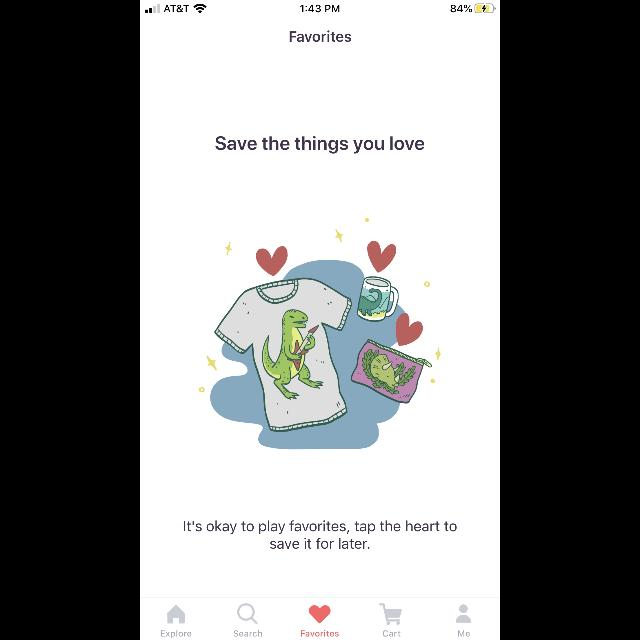icon: (380, 603, 402, 625), (238, 604, 258, 624), (309, 605, 331, 623), (168, 604, 185, 624), (456, 604, 470, 622)
image: (199, 218, 441, 450)
text: (184, 520, 456, 550), (216, 136, 424, 154), (290, 31, 352, 43), (160, 630, 192, 638), (301, 630, 339, 636), (234, 630, 262, 636), (383, 630, 401, 636), (458, 630, 470, 636)
uppertaskbar: (140, 0, 500, 14)
